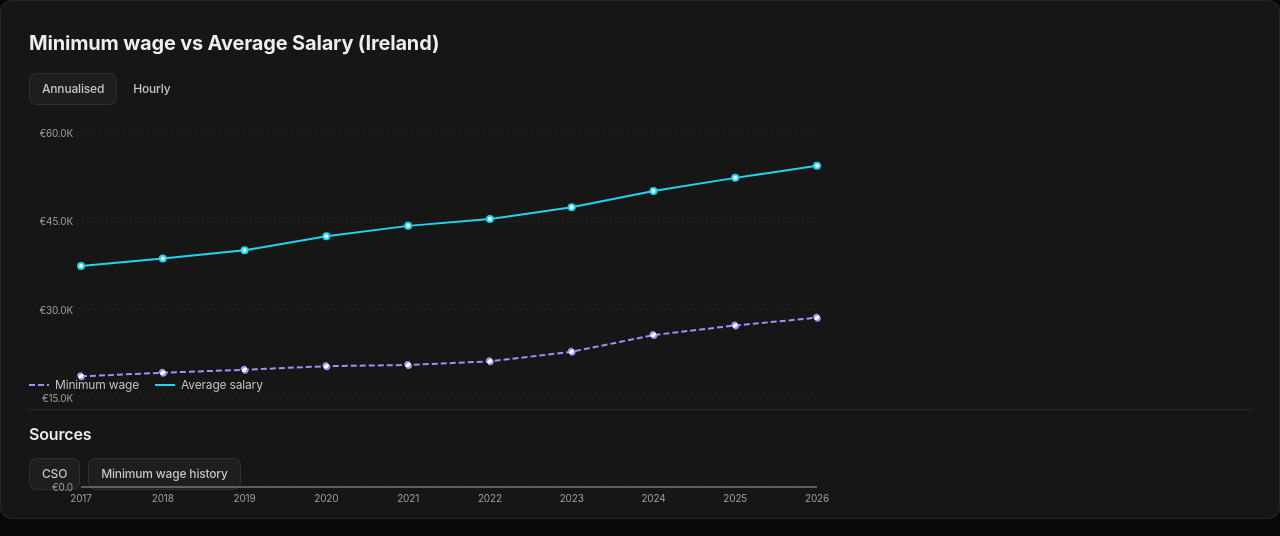
Test case: Ireland line charts › plots comparable Q2 earnings observations with a legend and switches the pay basis
Check: the number of list items is 2, box left=29, top=377, right=139, bottom=393; left=155, top=377, right=263, bottom=393
Check: the list named "Chart legend" shows "Average salary", box left=181, top=377, right=263, bottom=392
Click the button "Hourly" at (152, 89), box left=121, top=73, right=182, bottom=105
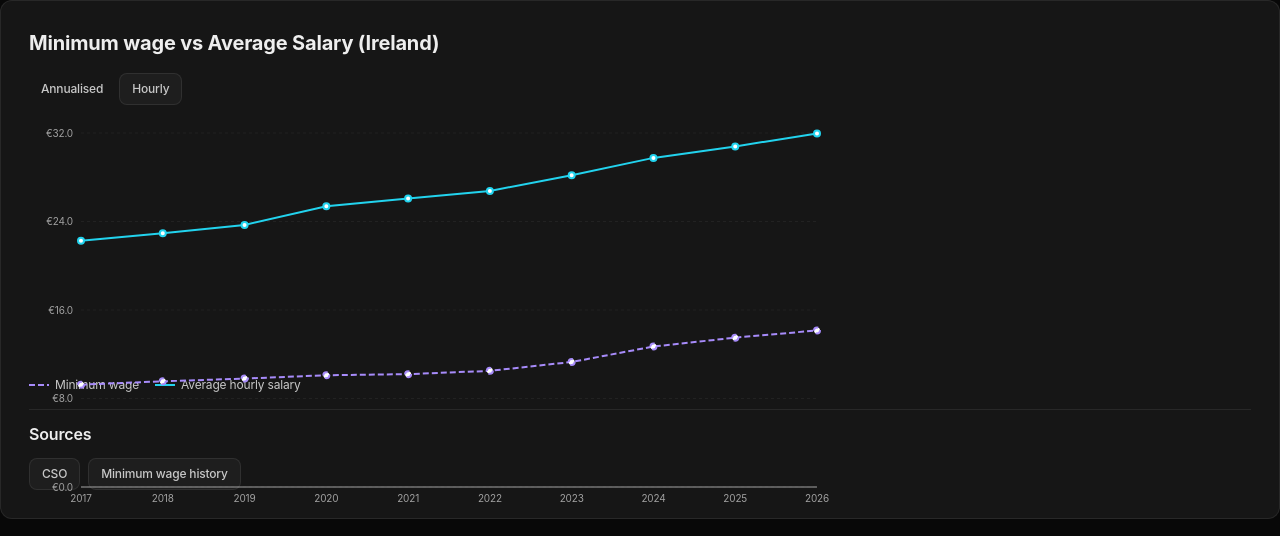
Check: the list named "Chart legend" shows "Average hourly salary", box left=181, top=377, right=301, bottom=392
